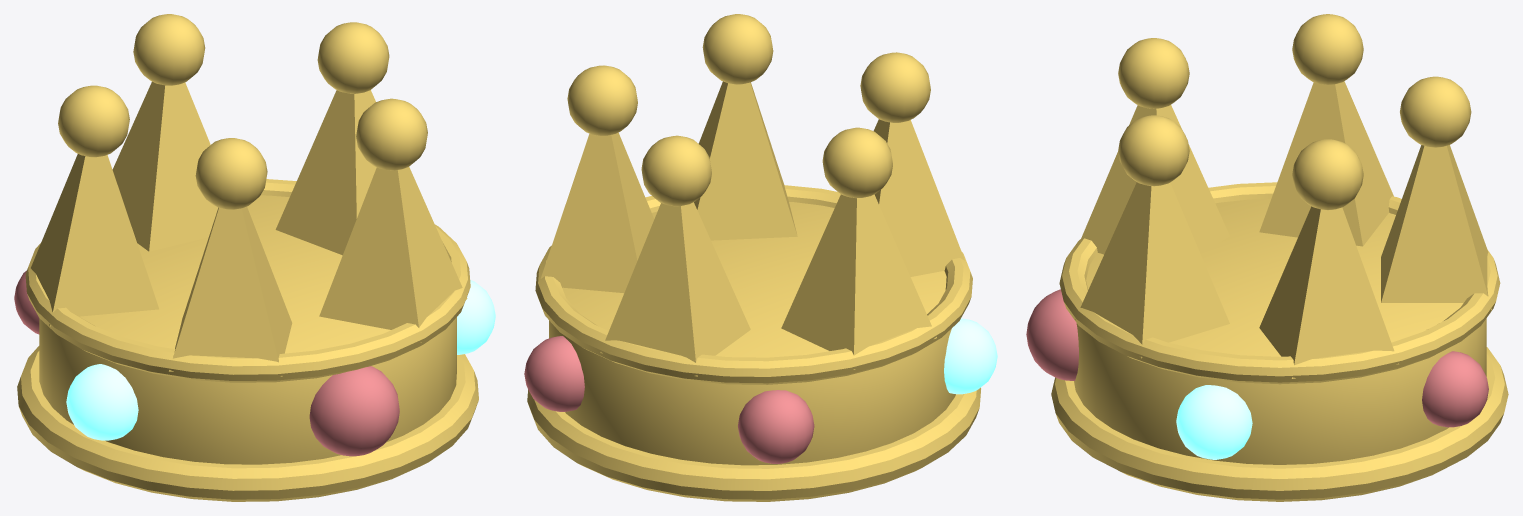
The model's file is crown.glb.
The picture shows the model from 3 angles, left to right: view 1: azimuth 30°, elevation 25°; view 2: azimuth 150°, elevation 25°; view 3: azimuth 270°, elevation 25°; orthographic projection.
Visible parts, largest first — view 1: WPN_Crown_Band.001, WPN_Crown_Brim.001, WPN_Crown_Point3.001, WPN_Crown_TopRim.001, WPN_Crown_Point1.001, WPN_Crown_Point0.001, WPN_Crown_Point2.001, WPN_Crown_Point4.001, WPN_Crown_FrontGem.001, WPN_Crown_Gem1.001, WPN_Crown_TipBall1.001, WPN_Crown_TipBall3.001 (+5 smaller); view 2: WPN_Crown_Band.001, WPN_Crown_Brim.001, WPN_Crown_Point1.001, WPN_Crown_TopRim.001, WPN_Crown_Point0.001, WPN_Crown_Point4.001, WPN_Crown_Point3.001, WPN_Crown_Point2.001, WPN_Crown_Gem0.001, WPN_Crown_TipBall2.001, WPN_Crown_TipBall0.001, WPN_Crown_TipBall1.001 (+4 smaller); view 3: WPN_Crown_Band.001, WPN_Crown_Brim.001, WPN_Crown_TopRim.001, WPN_Crown_Point3.001, WPN_Crown_Point4.001, WPN_Crown_Point0.001, WPN_Crown_Point1.001, WPN_Crown_Point2.001, WPN_Crown_Gem3.001, WPN_Crown_TipBall0.001, WPN_Crown_TipBall1.001, WPN_Crown_TipBall4.001 (+4 smaller).
Part boxes in pixels (x1=…): WPN_Crown_Band.001: x1=39, y1=195, x2=456, y2=464; WPN_Crown_Brim.001: x1=17, y1=346, x2=478, y2=501; WPN_Crown_Point3.001: x1=319, y1=167, x2=467, y2=342; WPN_Crown_TopRim.001: x1=25, y1=179, x2=470, y2=382; WPN_Crown_Point1.001: x1=31, y1=154, x2=158, y2=326; WPN_Crown_Point0.001: x1=112, y1=81, x2=218, y2=251; WPN_Crown_Point2.001: x1=169, y1=206, x2=292, y2=376; WPN_Crown_Point4.001: x1=275, y1=90, x2=376, y2=255; WPN_Crown_FrontGem.001: x1=309, y1=366, x2=399, y2=456; WPN_Crown_Gem1.001: x1=66, y1=364, x2=138, y2=440; WPN_Crown_TipBall1.001: x1=58, y1=85, x2=129, y2=157; WPN_Crown_TipBall3.001: x1=356, y1=98, x2=427, y2=170; WPN_Crown_Band.001: x1=549, y1=202, x2=955, y2=465; WPN_Crown_Brim.001: x1=527, y1=387, x2=980, y2=501; WPN_Crown_Point1.001: x1=781, y1=194, x2=936, y2=369; WPN_Crown_TopRim.001: x1=535, y1=185, x2=972, y2=384; WPN_Crown_Point0.001: x1=600, y1=202, x2=750, y2=376; WPN_Crown_Point4.001: x1=540, y1=132, x2=654, y2=293; WPN_Crown_Point3.001: x1=694, y1=81, x2=797, y2=240; WPN_Crown_Point2.001: x1=873, y1=119, x2=964, y2=276; WPN_Crown_Gem0.001: x1=738, y1=390, x2=814, y2=463; WPN_Crown_TipBall2.001: x1=860, y1=52, x2=930, y2=122; WPN_Crown_TipBall0.001: x1=641, y1=135, x2=711, y2=206; WPN_Crown_TipBall1.001: x1=822, y1=127, x2=892, y2=198; WPN_Crown_Band.001: x1=1074, y1=199, x2=1486, y2=464; WPN_Crown_Brim.001: x1=1051, y1=347, x2=1508, y2=501; WPN_Crown_TopRim.001: x1=1059, y1=182, x2=1500, y2=384; WPN_Crown_Point3.001: x1=1075, y1=182, x2=1229, y2=358; WPN_Crown_Point4.001: x1=1259, y1=206, x2=1398, y2=378; WPN_Crown_Point0.001: x1=1381, y1=145, x2=1491, y2=310; WPN_Crown_Point1.001: x1=1259, y1=81, x2=1393, y2=246; WPN_Crown_Point2.001: x1=1080, y1=105, x2=1229, y2=254; WPN_Crown_Gem3.001: x1=1176, y1=385, x2=1252, y2=459; WPN_Crown_TipBall0.001: x1=1400, y1=76, x2=1471, y2=147; WPN_Crown_TipBall1.001: x1=1292, y1=14, x2=1363, y2=84; WPN_Crown_TipBall4.001: x1=1292, y1=139, x2=1363, y2=210.
Size of the model in its own units: 0.3462 by 0.2653 by 0.35.
